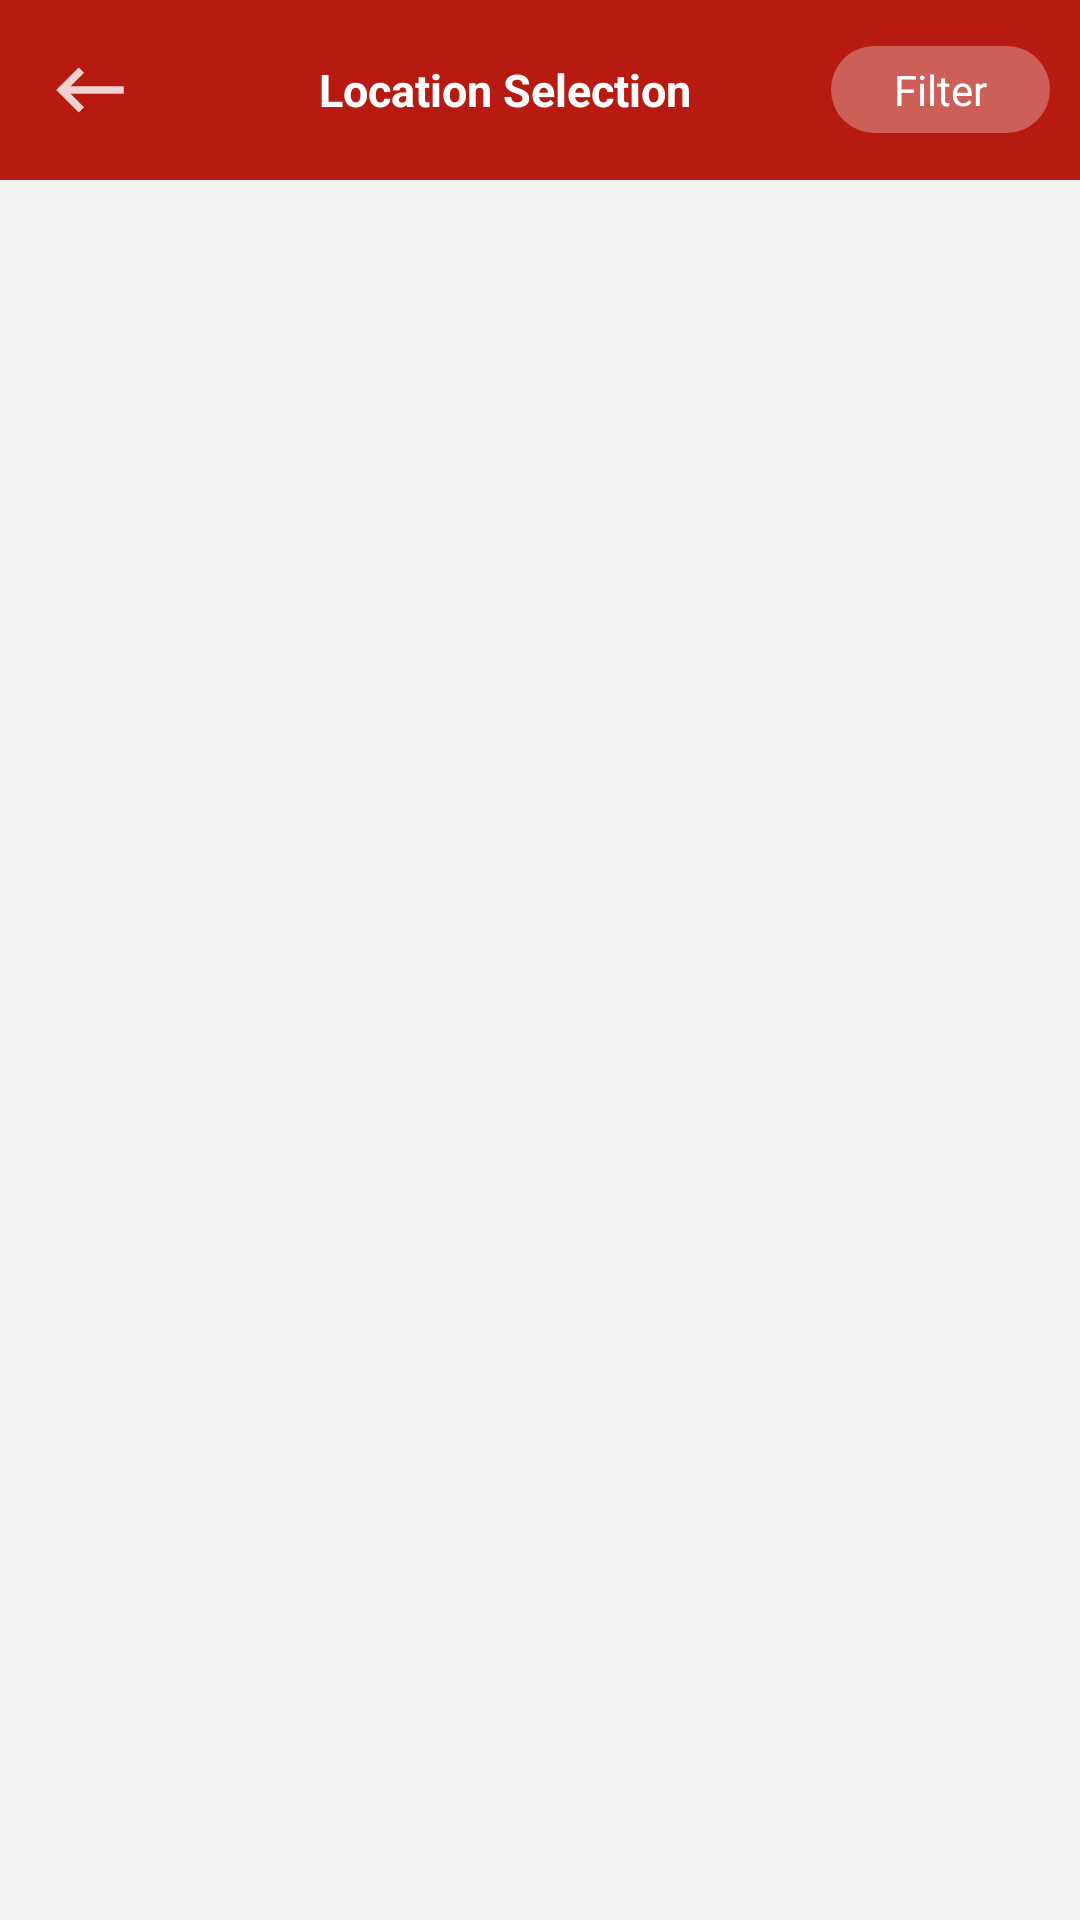

Where to tap for icons on this 1080px×1920px app screen, as (x,y):
back arrow: (90,90)
